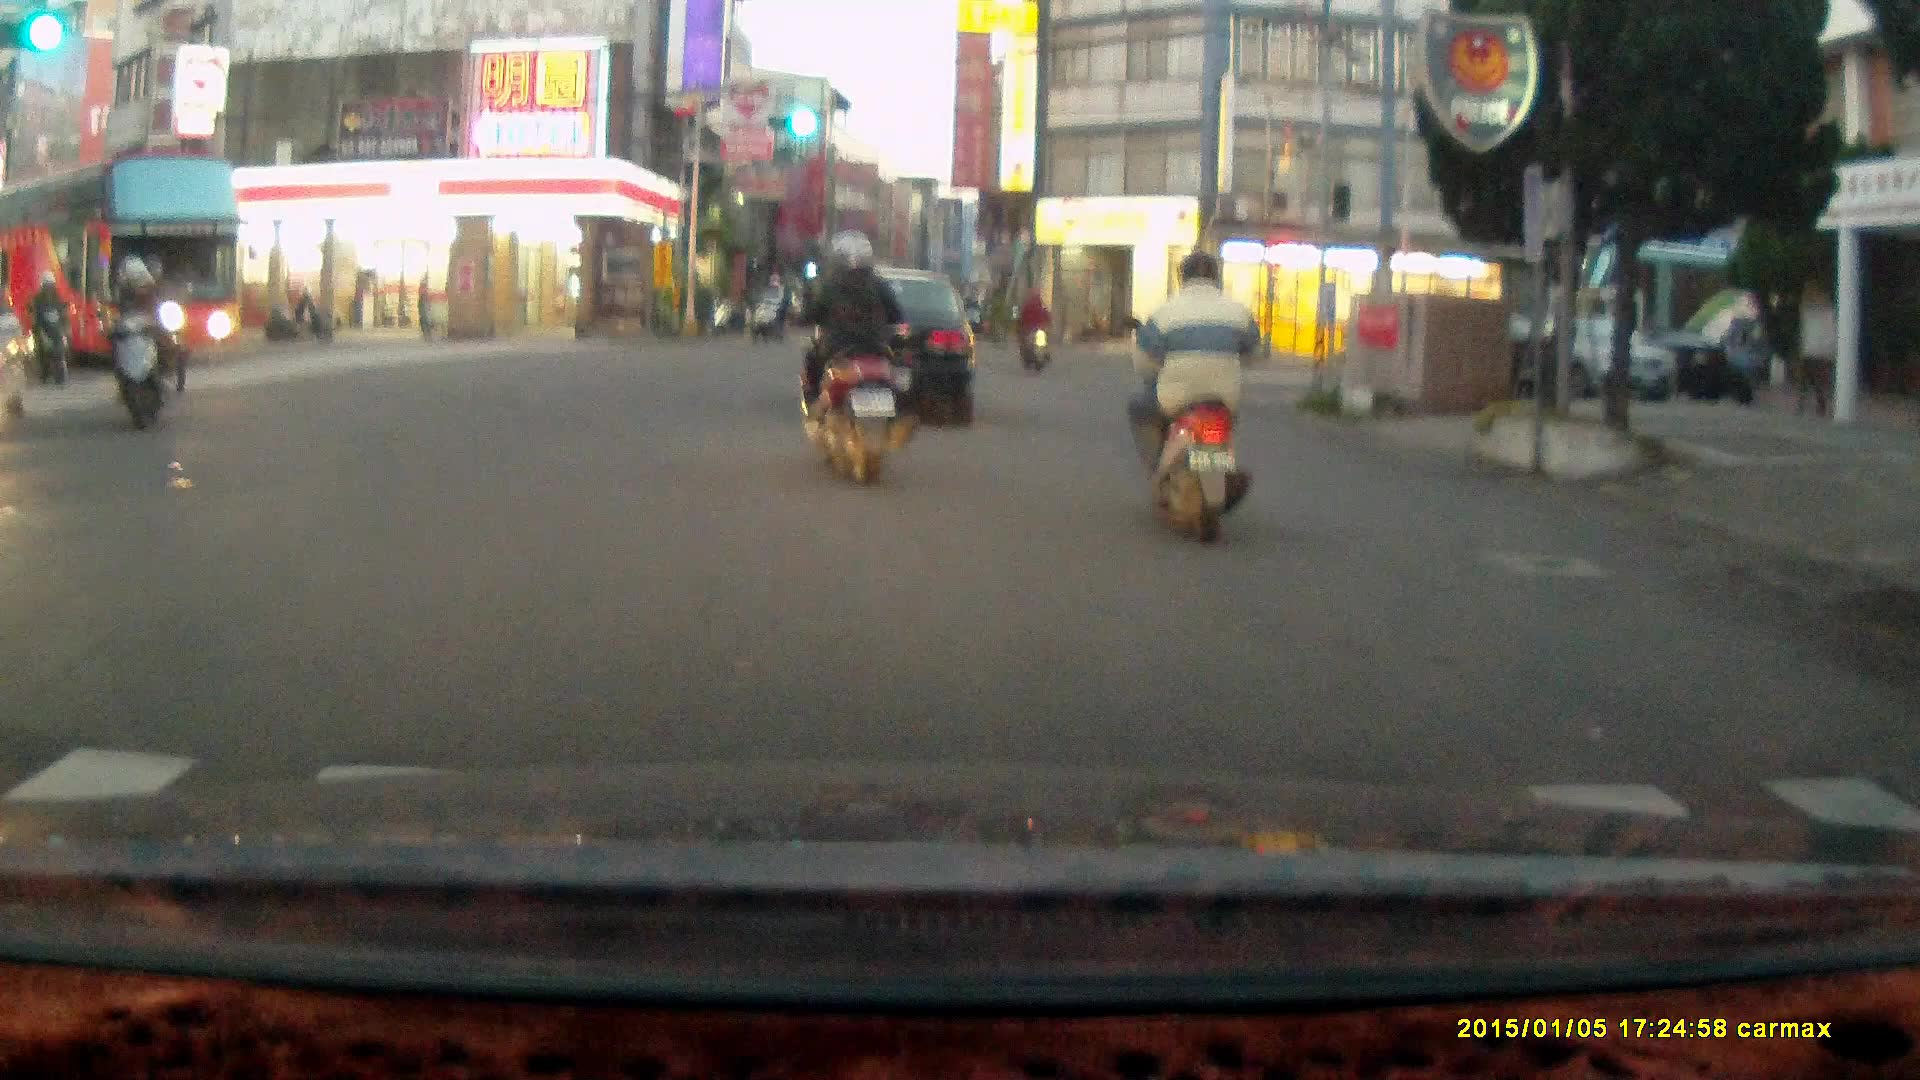rider: (1123, 252, 1257, 552), (788, 226, 923, 491), (100, 254, 177, 435), (23, 271, 71, 390), (1010, 292, 1052, 375), (750, 275, 791, 341)
vehicle: (1, 156, 239, 375), (1472, 311, 1683, 406)
